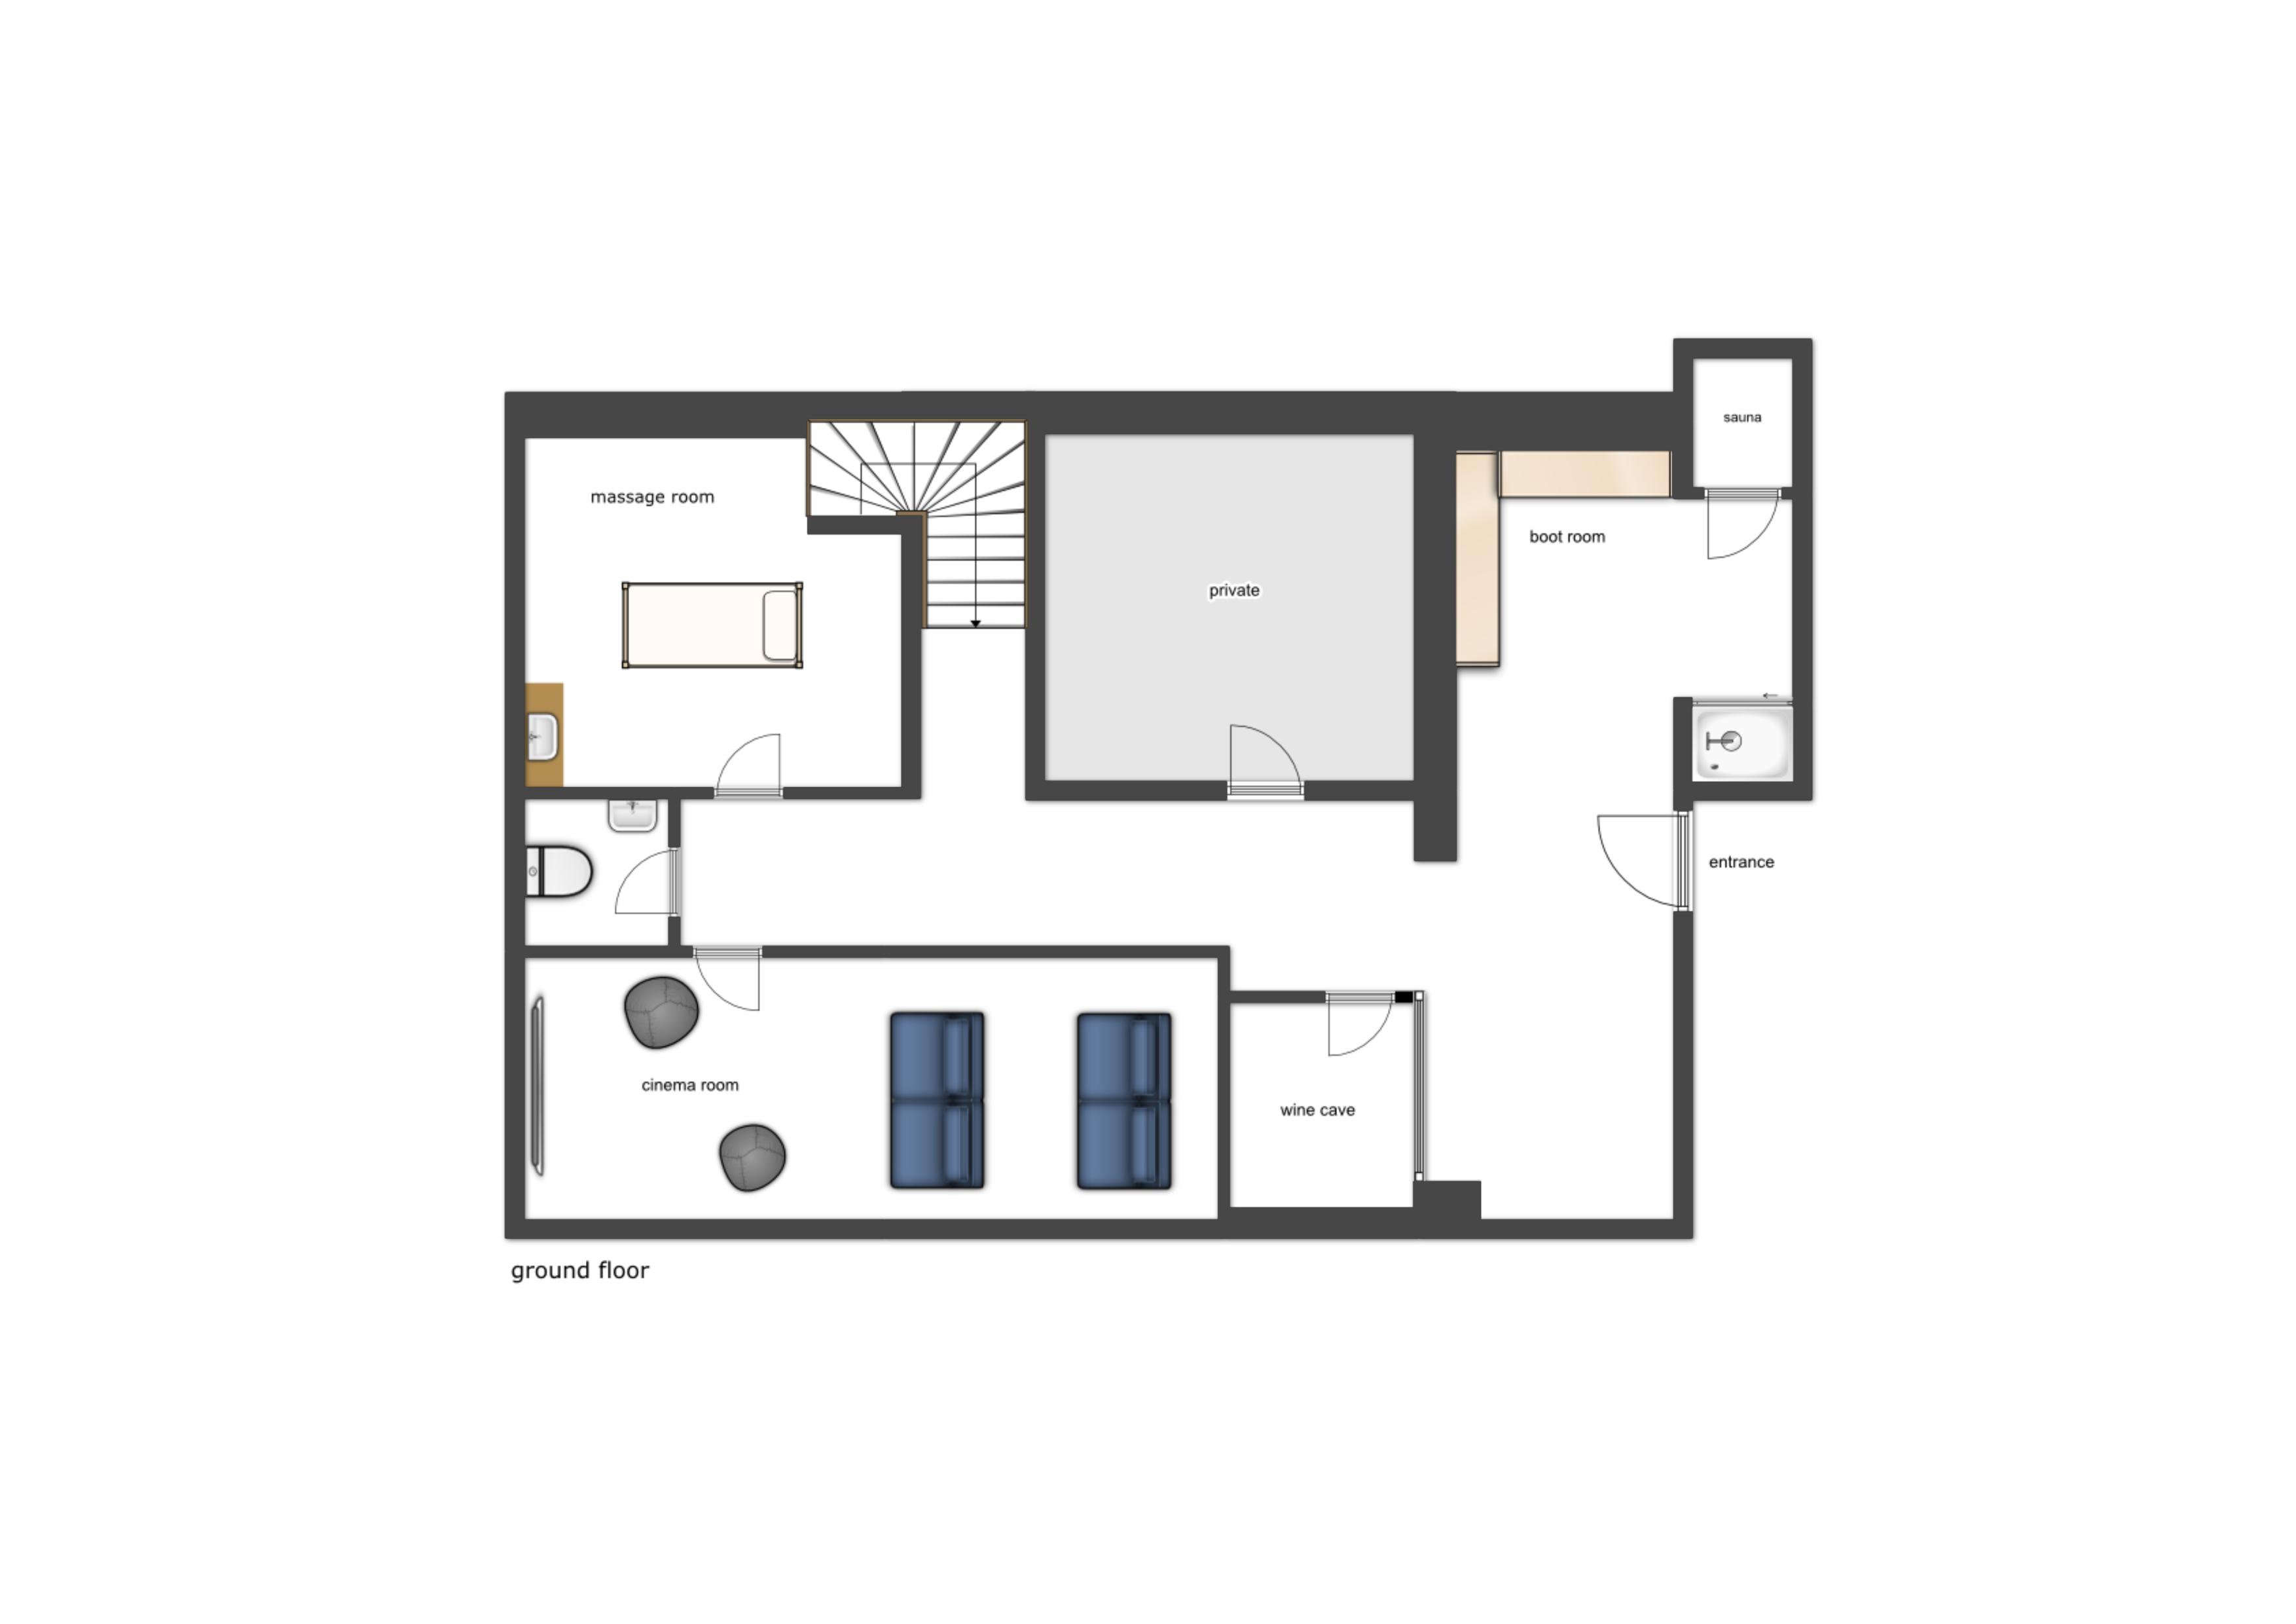wall: (501, 1213, 1704, 1239), (1026, 387, 1419, 438), (1416, 381, 1453, 863), (495, 383, 806, 438), (1781, 336, 1818, 787), (501, 387, 520, 1239), (1435, 394, 1697, 445), (1667, 910, 1704, 1227), (1021, 387, 1047, 793), (759, 940, 1235, 956), (1024, 772, 1235, 798), (901, 511, 921, 798), (1216, 956, 1235, 1227), (502, 784, 715, 803), (805, 508, 921, 536), (1416, 1179, 1476, 1230), (1671, 780, 1813, 801), (780, 784, 926, 803), (1679, 336, 1811, 357), (501, 942, 692, 956), (1214, 984, 1330, 1004), (1305, 777, 1407, 796), (1678, 337, 1690, 497), (1674, 696, 1690, 805), (666, 777, 685, 847), (666, 914, 683, 953), (1388, 986, 1416, 998)
